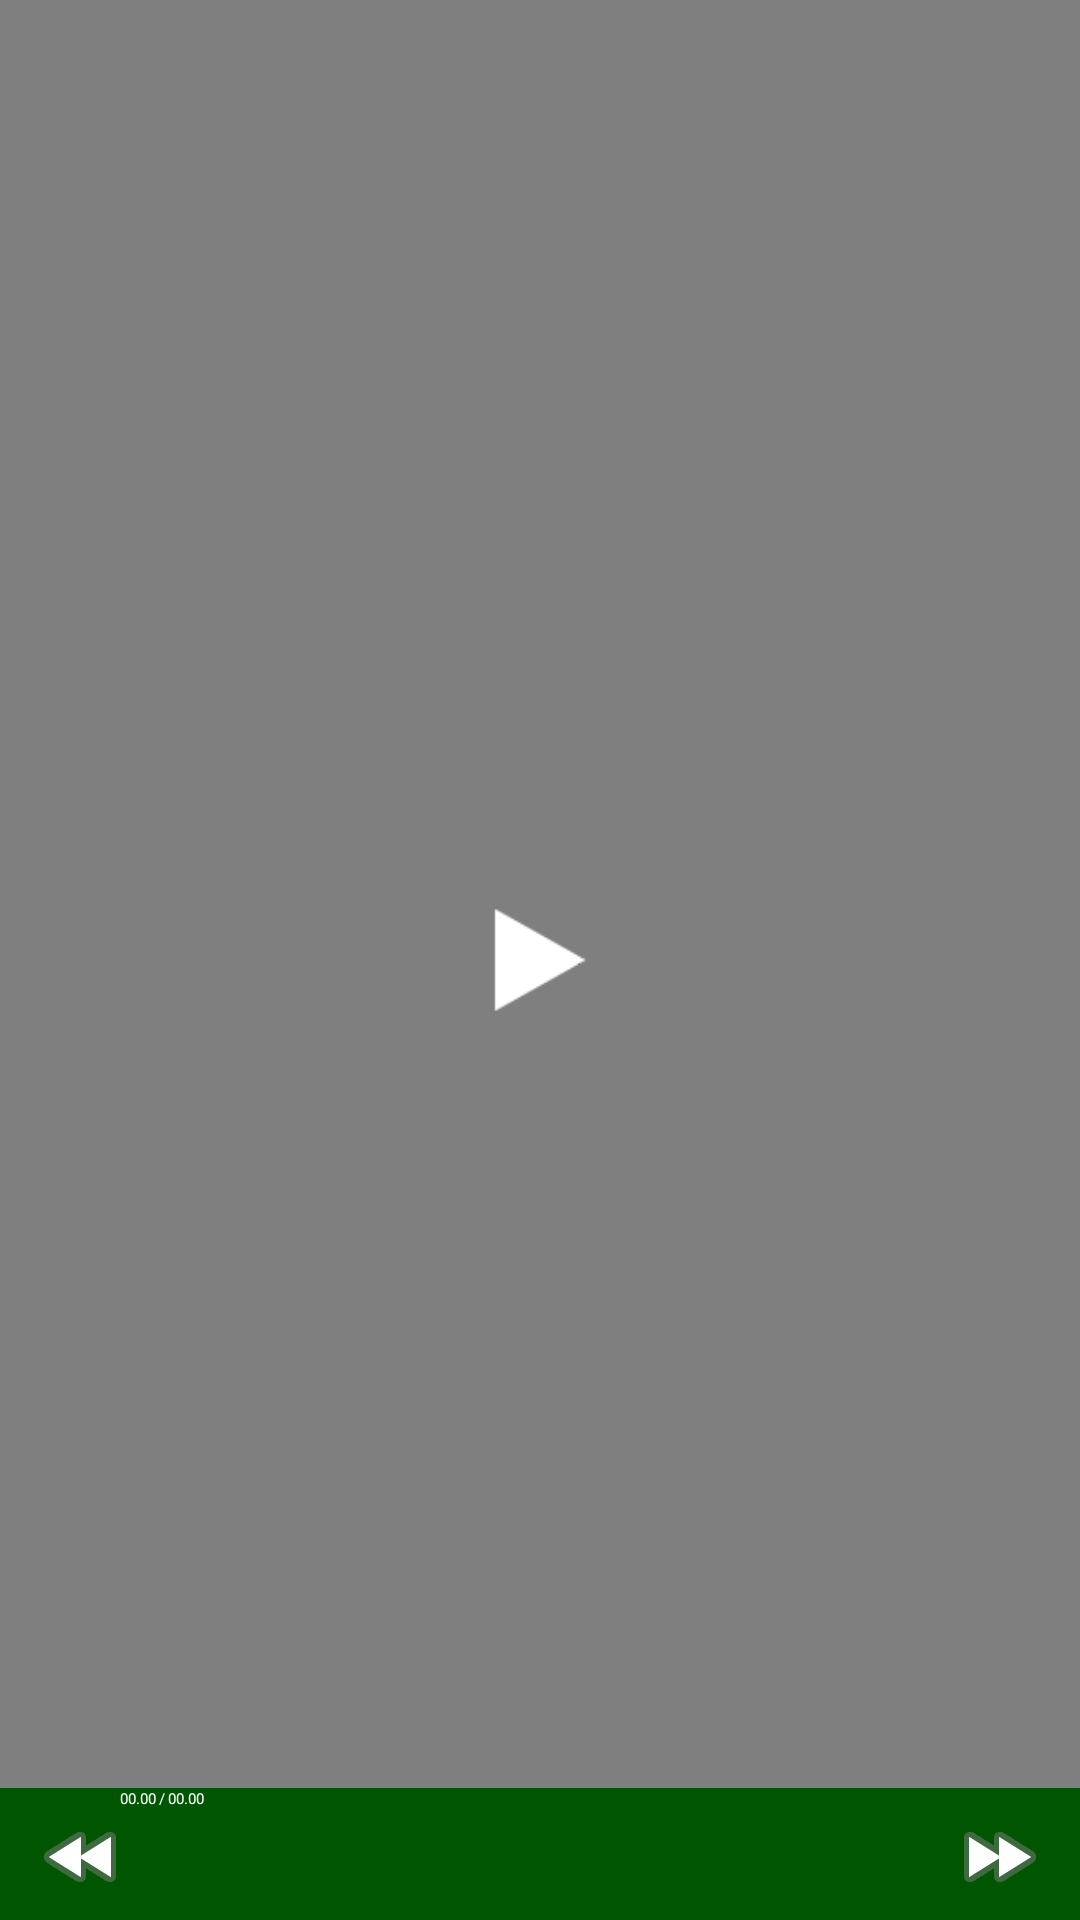

Named icons in this screenshot (1080px×1920px) and their centers, (x,y):
play: (539,960)
rew: (80,1857)
